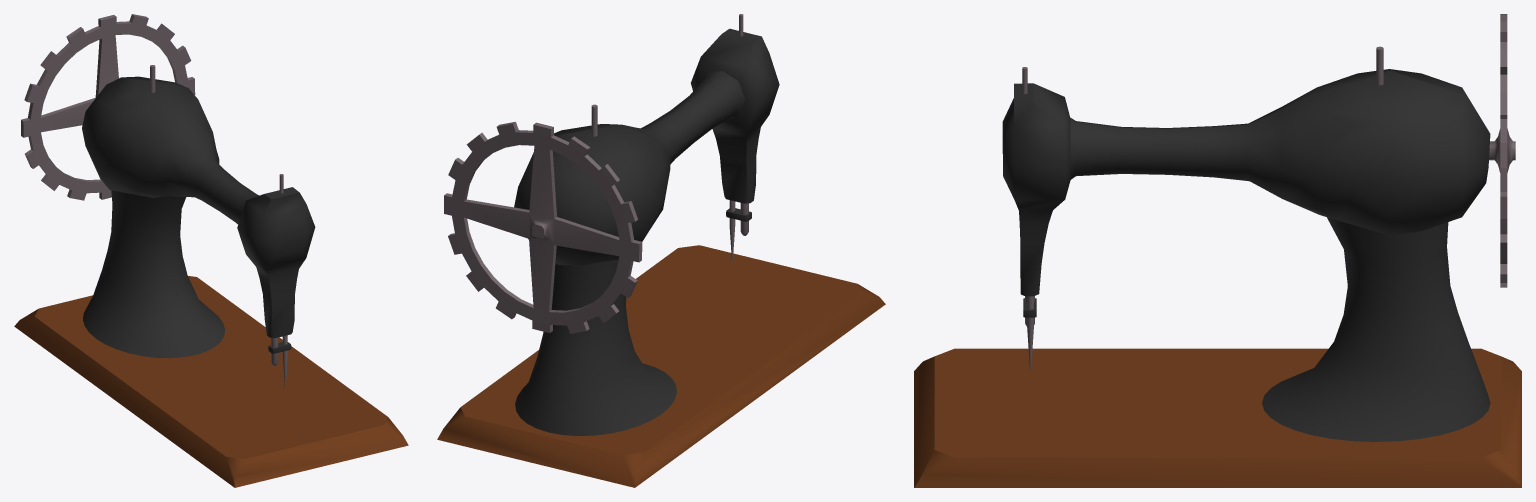
The model's file is V_Industrial02_Tear.fbx.
The picture shows the model from 3 angles, left to right: view 1: azimuth 30°, elevation 25°; view 2: azimuth 150°, elevation 25°; view 3: azimuth 270°, elevation 25°; orthographic projection. The views are drawn at different scales.
Visible parts, largest first — view 1: Sewing.002; view 2: Sewing.002; view 3: Sewing.002.
Part boxes in pixels (left/top/right/bottom): Sewing.002: left=14, top=14, right=408, bottom=487; Sewing.002: left=437, top=14, right=885, bottom=487; Sewing.002: left=914, top=14, right=1521, bottom=487.
Size of the model in its own units: 179 by 288 by 394.
